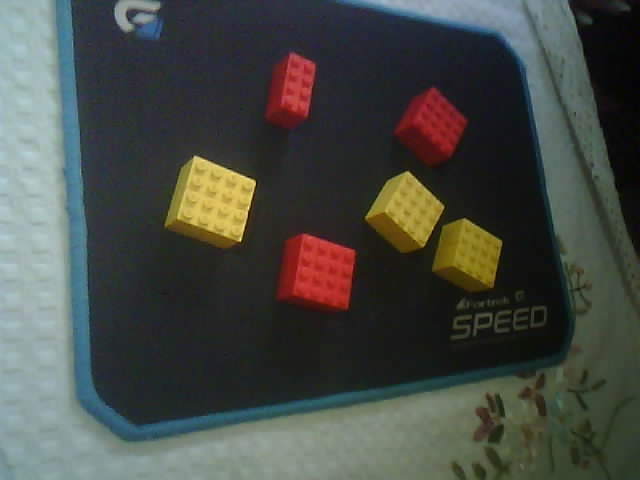lego: (164, 154, 256, 250), (364, 170, 446, 255), (275, 233, 357, 314), (392, 87, 469, 166), (432, 218, 504, 293), (264, 51, 317, 129)
